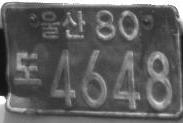0: (117, 9, 139, 41)
4: (112, 50, 141, 110), (49, 48, 75, 106)
6: (79, 49, 107, 108)
8: (145, 50, 172, 110), (93, 9, 116, 41)
도: (13, 51, 42, 86)
울산_O: (39, 10, 86, 39)
